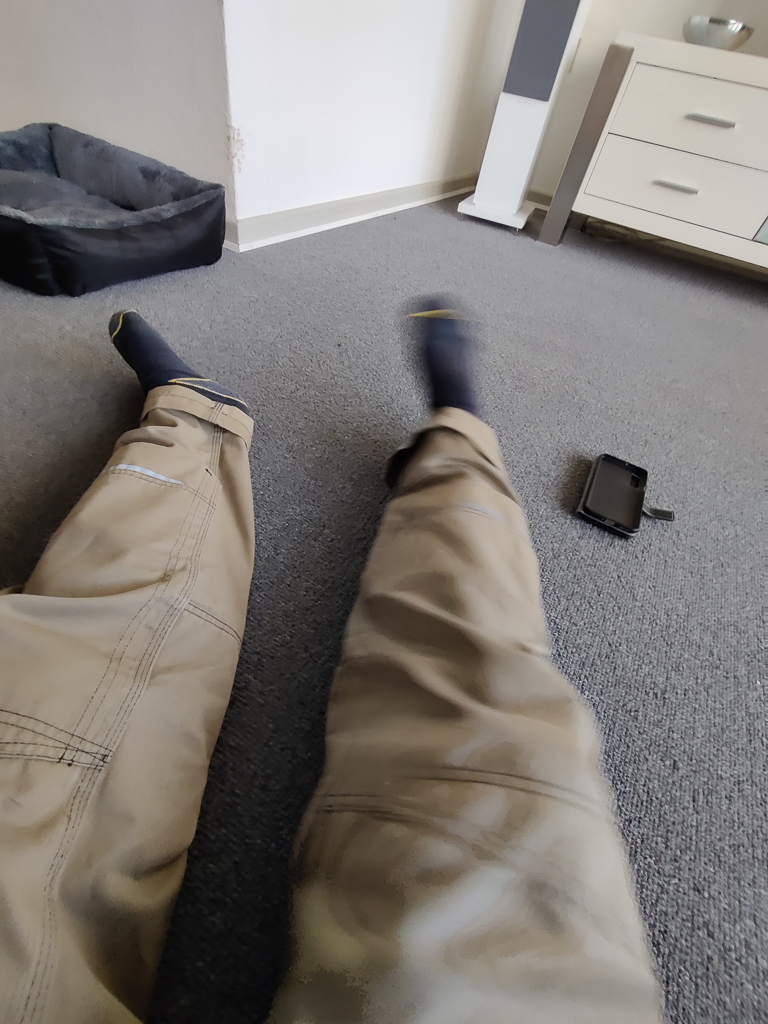Humanoid: (0, 275, 687, 1024)
